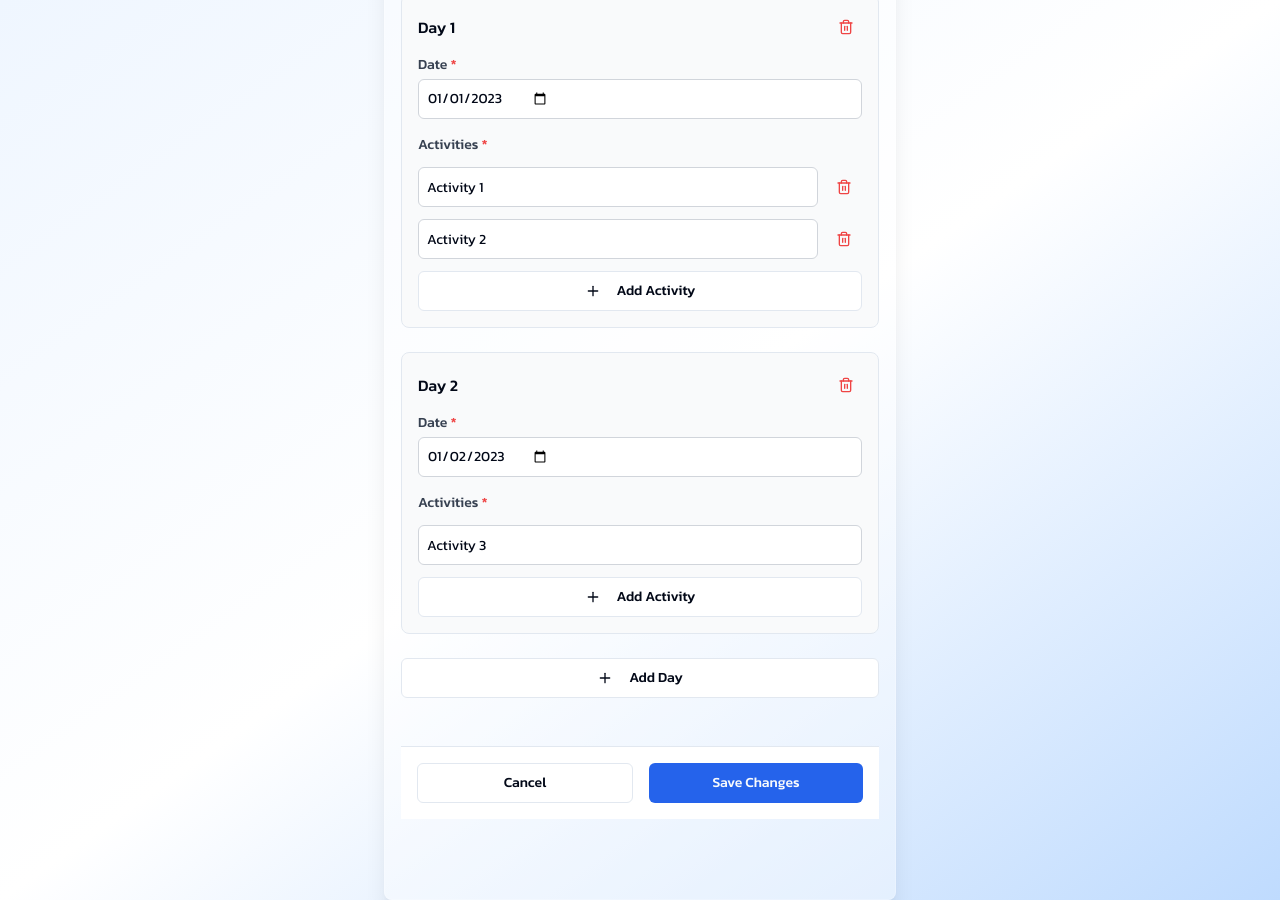
Test: EditCamp Page › allows removing a day from the schedule
This screenshot has width=1280, height=900.
(page scrolled)
Click the 1st button named "Remove Day" at (846, 27), box [830,11,862,43]
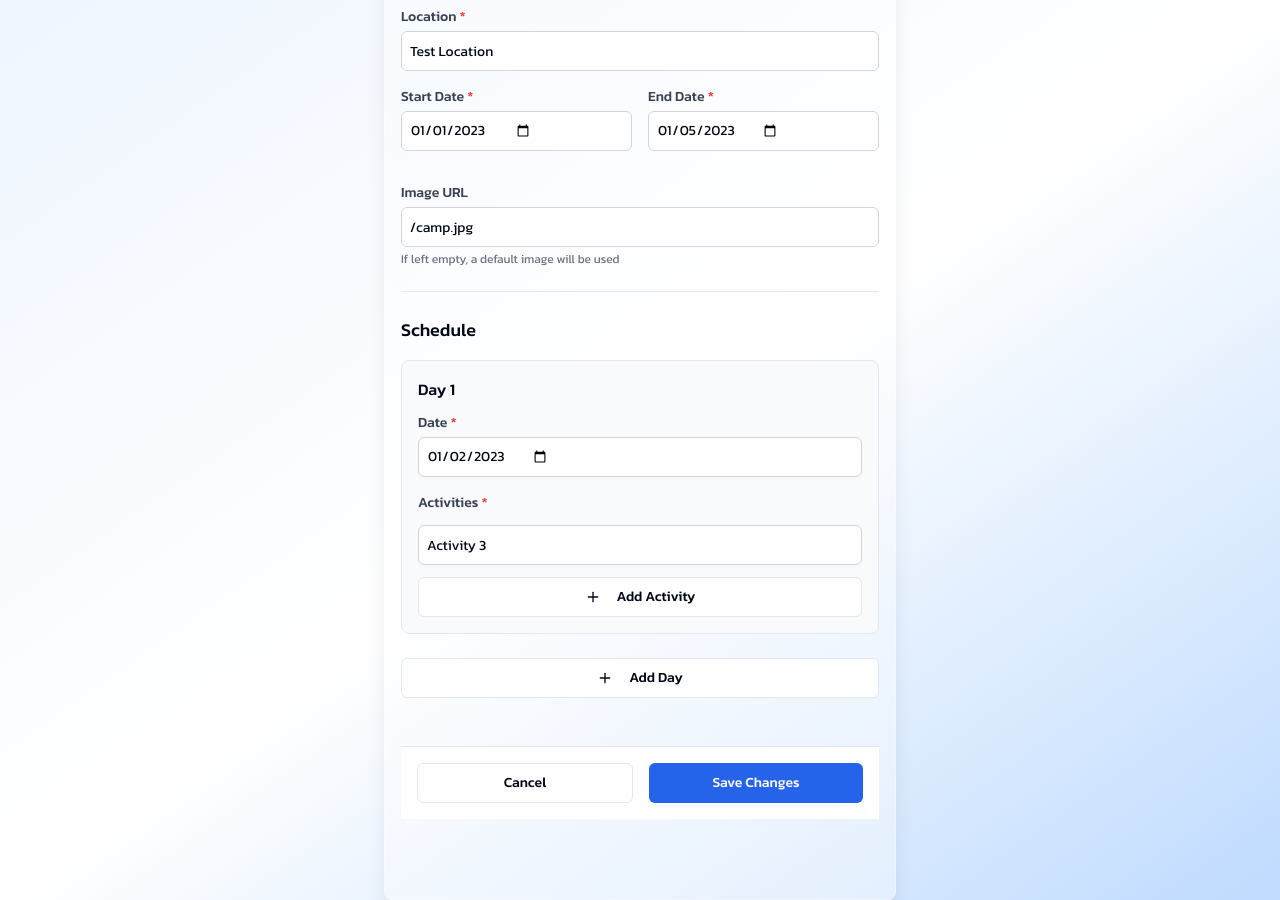
Result: the number of headings "Day 1" is 1 at [418,377,455,401]
